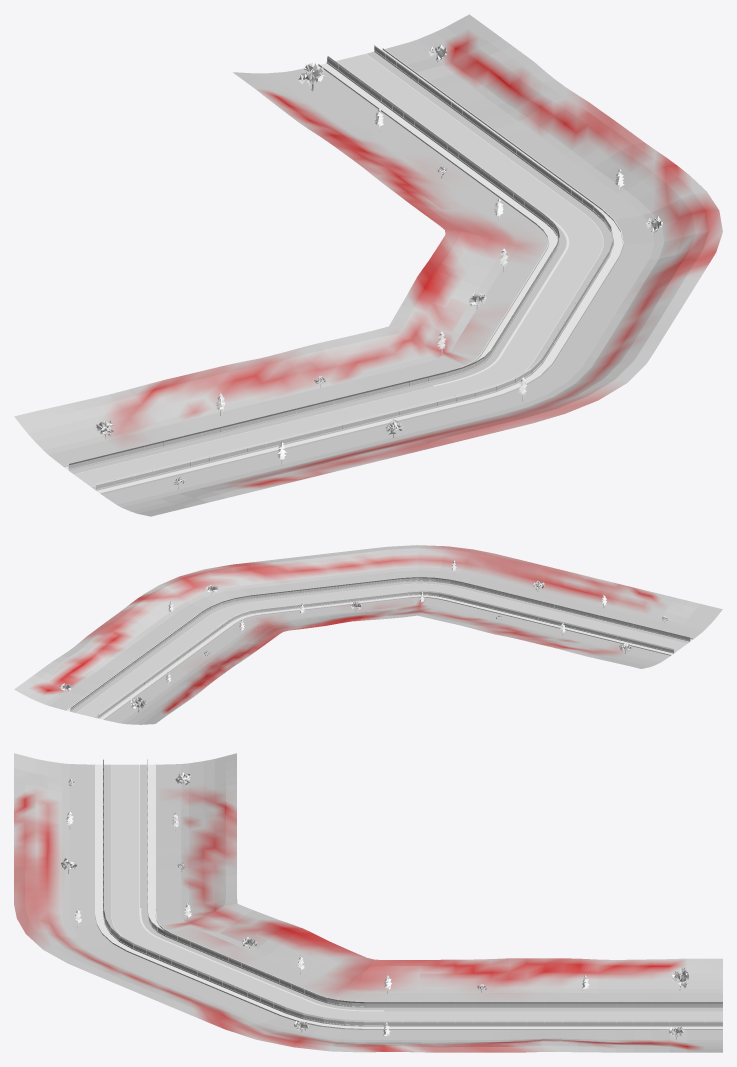
The picture shows the model from 3 angles, top to bottom: view 1: azimuth 30°, elevation 25°; view 2: azimuth 150°, elevation 25°; view 3: azimuth 270°, elevation 25°; orthographic projection. The views are drawn at different scales.
Parts seen in each view (by area): view 1: Grass, Road, Track, Wirefence, Trees; view 2: Grass, Road, Track, Wirefence, Trees; view 3: Grass, Road, Track, Wirefence, Trees.
Part boxes in pixels (<box>): Grass: <box>14,14,722,516</box>; Road: <box>74,54,603,486</box>; Track: <box>63,46,623,494</box>; Wirefence: <box>68,45,613,489</box>; Trees: <box>96,44,662,489</box>; Grass: <box>14,545,722,724</box>; Road: <box>76,583,686,717</box>; Track: <box>65,577,692,719</box>; Wirefence: <box>70,577,690,717</box>; Trees: <box>60,560,667,712</box>; Grass: <box>14,753,722,1052</box>; Road: <box>111,764,722,1020</box>; Track: <box>95,763,722,1029</box>; Wirefence: <box>103,759,722,1025</box>; Trees: <box>61,772,688,1040</box>.
Size of what is drawn, in the model's own units: 44500 by 1702 by 44500.
